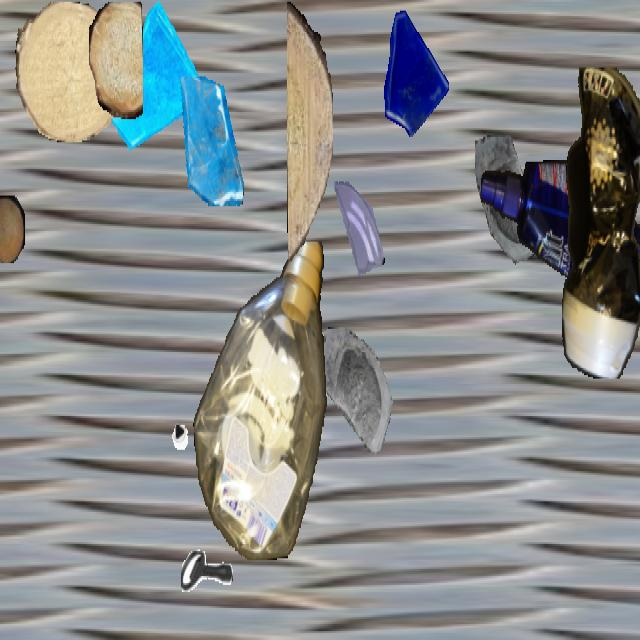glass: (112, 2, 202, 162), (473, 135, 559, 288), (321, 323, 405, 473), (375, 2, 451, 137), (174, 76, 246, 205), (329, 180, 387, 282)
metal: (135, 354, 193, 457), (181, 528, 233, 620)
plastic: (193, 242, 329, 558), (562, 67, 640, 377), (481, 160, 640, 306)
wood: (15, 2, 121, 140), (287, 2, 333, 261), (89, 2, 143, 119), (0, 196, 25, 263)
